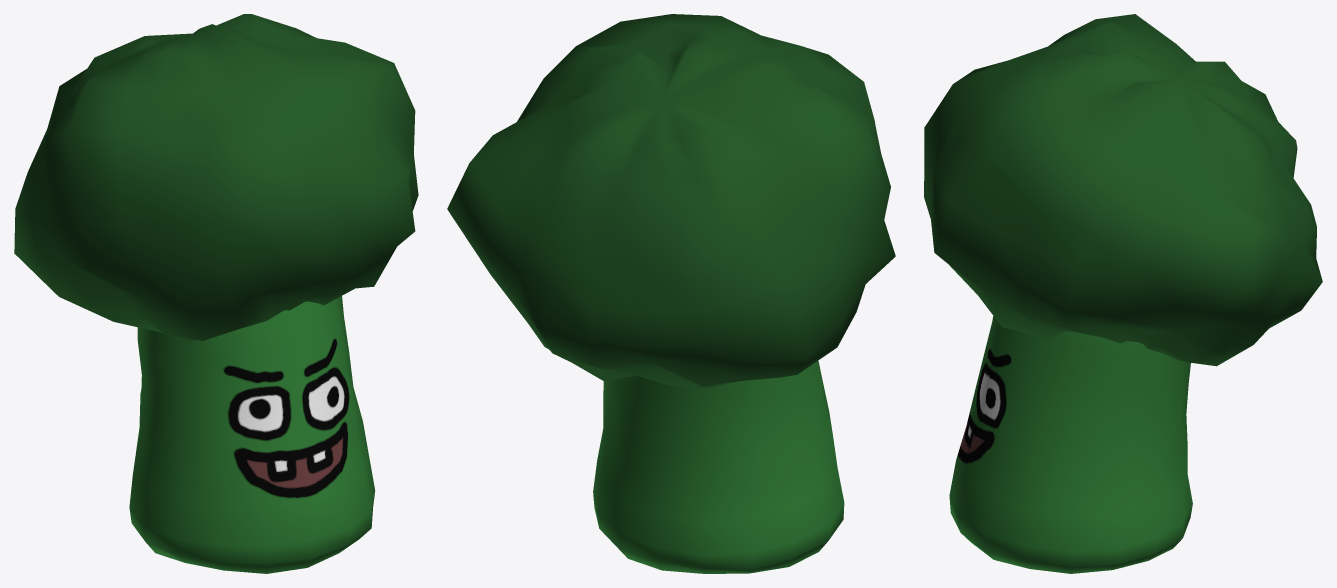
The model's file is gegner.fbx.
3 renders of one model, left to right at view 1: azimuth 30°, elevation 25°; view 2: azimuth 150°, elevation 25°; view 3: azimuth 270°, elevation 25°, orthographic. The views are drawn at different scales.
Parts seen in each view (by area): view 1: Kugel, Zylinder; view 2: Kugel, Zylinder; view 3: Kugel, Zylinder.
Part boxes in pixels (x1,y1,x2,y2): Kugel: [14, 14, 418, 342]; Zylinder: [129, 296, 375, 573]; Kugel: [447, 14, 895, 388]; Zylinder: [593, 360, 844, 573]; Kugel: [924, 14, 1322, 366]; Zylinder: [949, 316, 1192, 573].
Size of the model in its own units: 180 by 238 by 178.
Materials: 2 (2 with a texture image).
